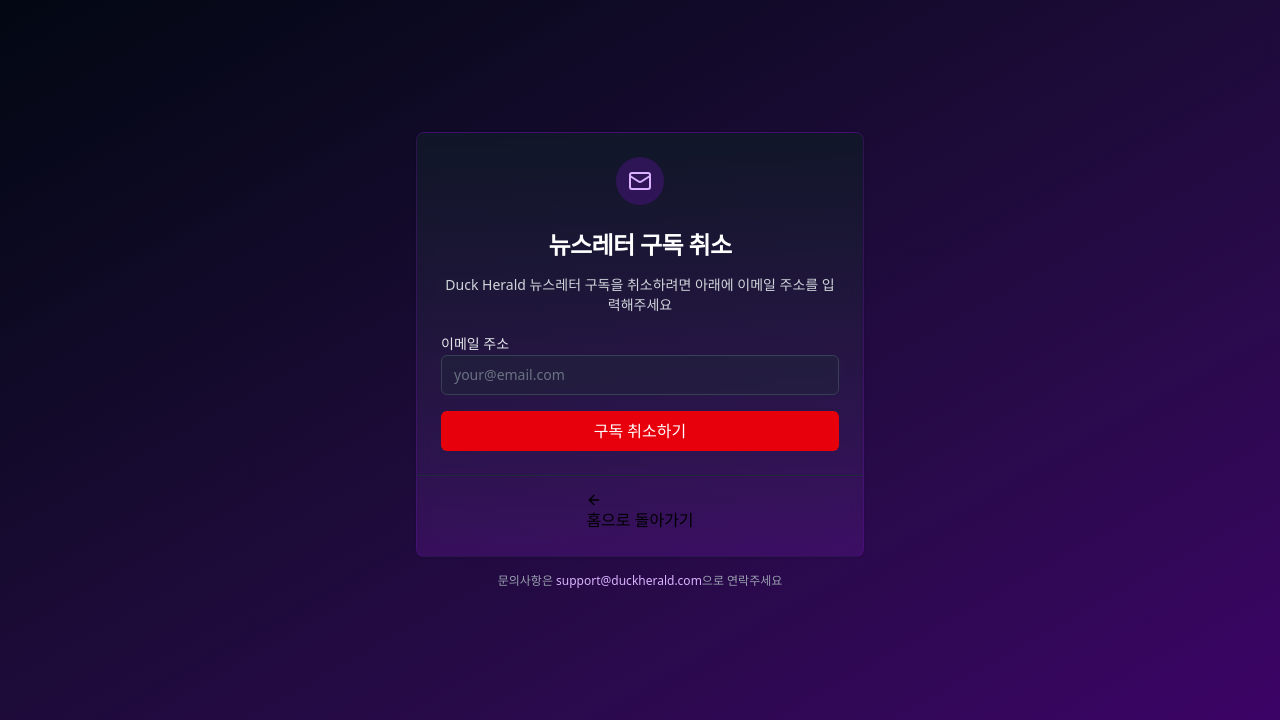
Test case: UnsubscribePage › 이메일 제출 성공 시 성공 화면이 표시되어야 함
Type "test@example.com" into the field labelled "이메일 주소" at point(640, 374), box left=441, top=354, right=839, bottom=394
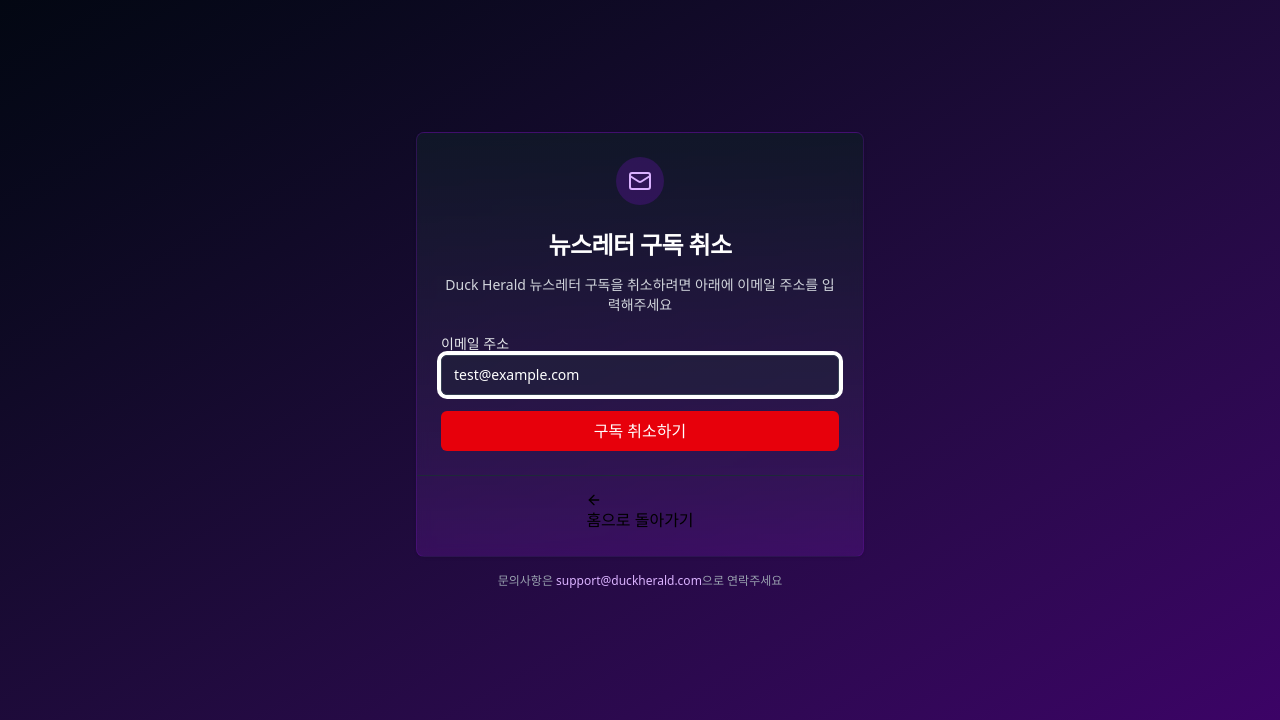
Click the button "구독 취소하기" at point(640, 430), box left=441, top=410, right=839, bottom=450
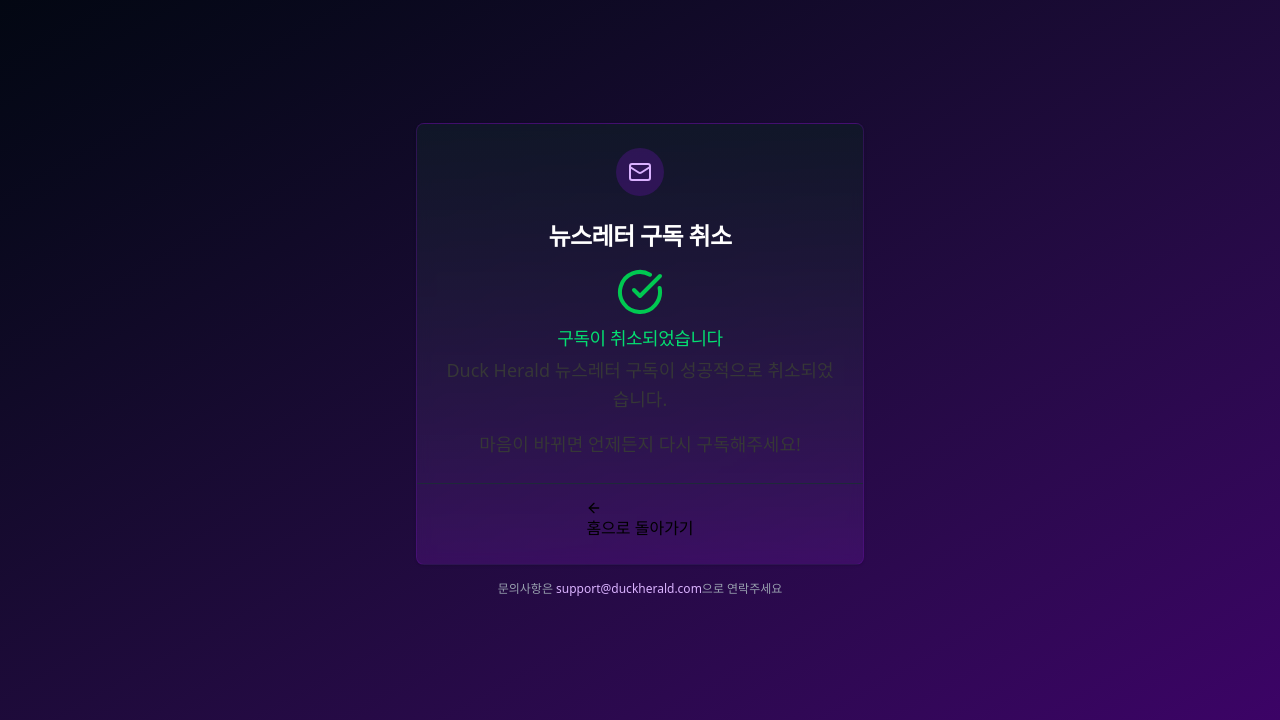
Expected: the link "홈으로 돌아가기" is shown, left=586, top=500, right=694, bottom=540
Expected: the heading "구독이 취소되었습니다" is shown, left=557, top=326, right=723, bottom=350
Expected: the text "Duck Herald 뉴스레터 구독이 성공적으로 취소되었습니다." is shown, left=441, top=356, right=839, bottom=414
